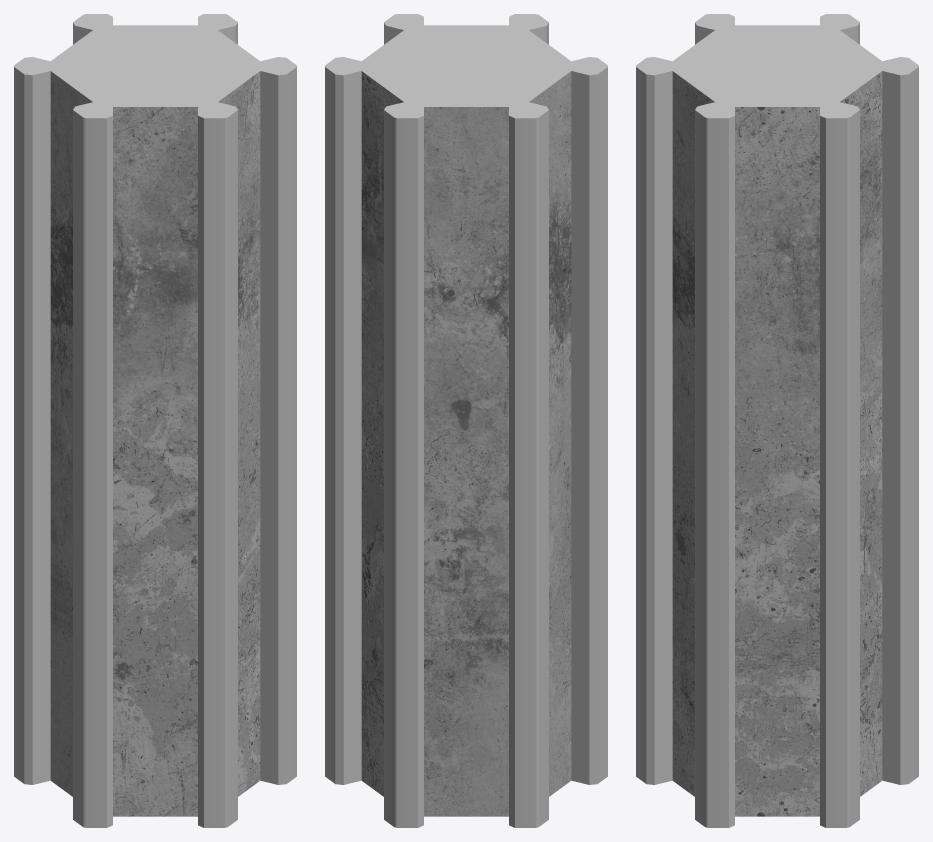
Rendered from SM_PinnacleSingle_01b.fbx.
3 renders of one model, left to right at view 1: azimuth 30°, elevation 25°; view 2: azimuth 150°, elevation 25°; view 3: azimuth 270°, elevation 25°, orthographic.
Visible parts, largest first — view 1: SM_PinnacleSingle_01b_LOD0; view 2: SM_PinnacleSingle_01b_LOD0; view 3: SM_PinnacleSingle_01b_LOD0.
Part boxes in pixels (<box>): SM_PinnacleSingle_01b_LOD0: <box>14,14,296,827</box>; SM_PinnacleSingle_01b_LOD0: <box>325,14,607,827</box>; SM_PinnacleSingle_01b_LOD0: <box>636,14,918,827</box>.
Size of the model in its own units: 126 by 144 by 400.
